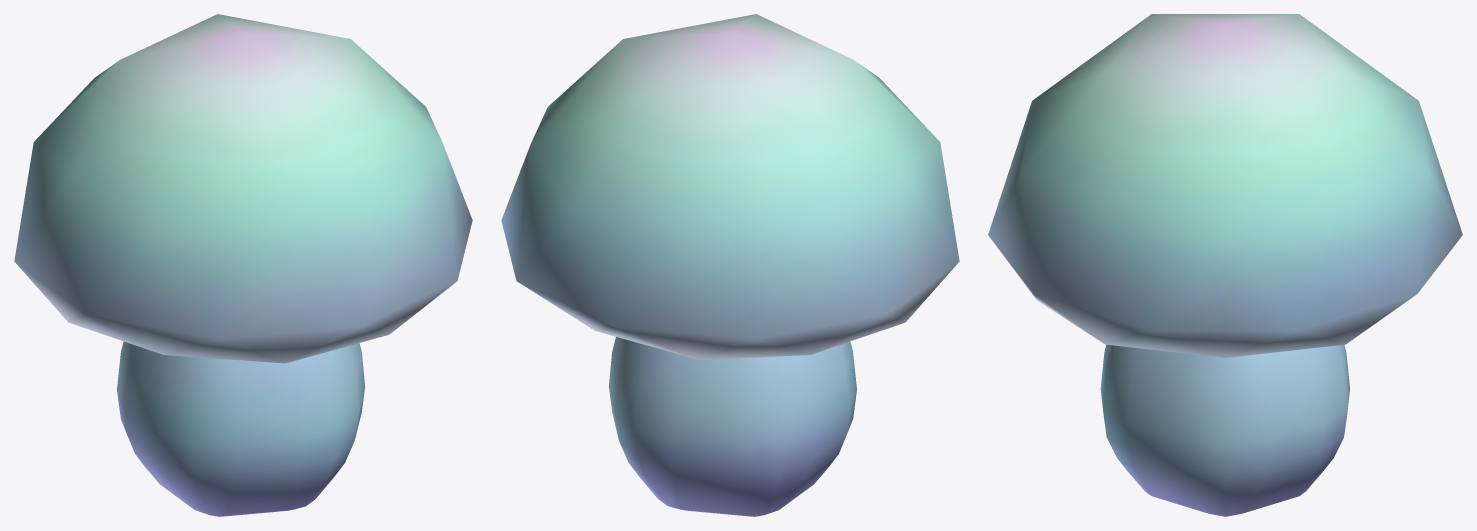
File: fungo lowpoly uv.fbx
3 renders of one model, left to right at view 1: azimuth 30°, elevation 25°; view 2: azimuth 150°, elevation 25°; view 3: azimuth 270°, elevation 25°, orthographic.
Visible parts, largest first — view 1: Icosphere.001; view 2: Icosphere.001; view 3: Icosphere.001.
Part boxes in pixels (x1,y1,x2,y2): Icosphere.001: (14, 14, 472, 516); Icosphere.001: (501, 14, 959, 516); Icosphere.001: (988, 14, 1462, 516).
Size of the model in its own units: 109 by 124 by 114.
